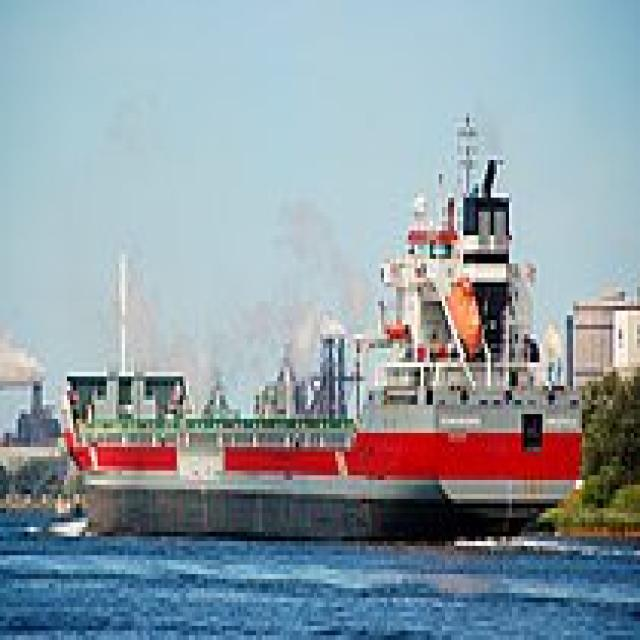Cargo: (58, 104, 582, 541)
